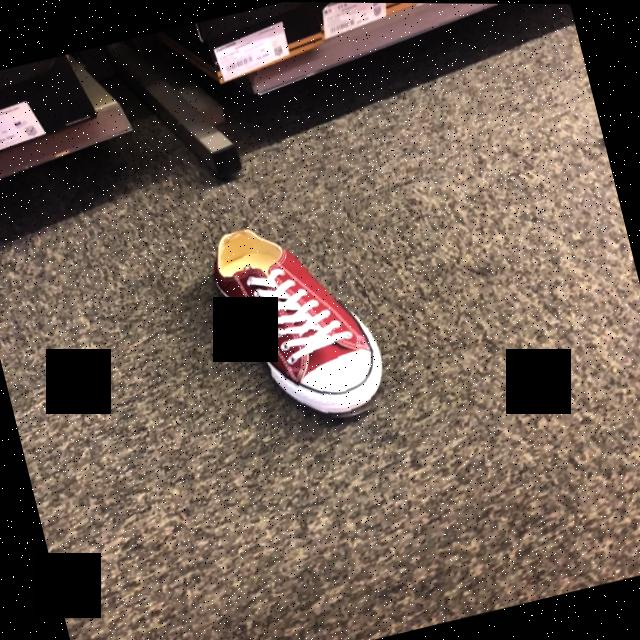shoe: (213, 229, 384, 417)
